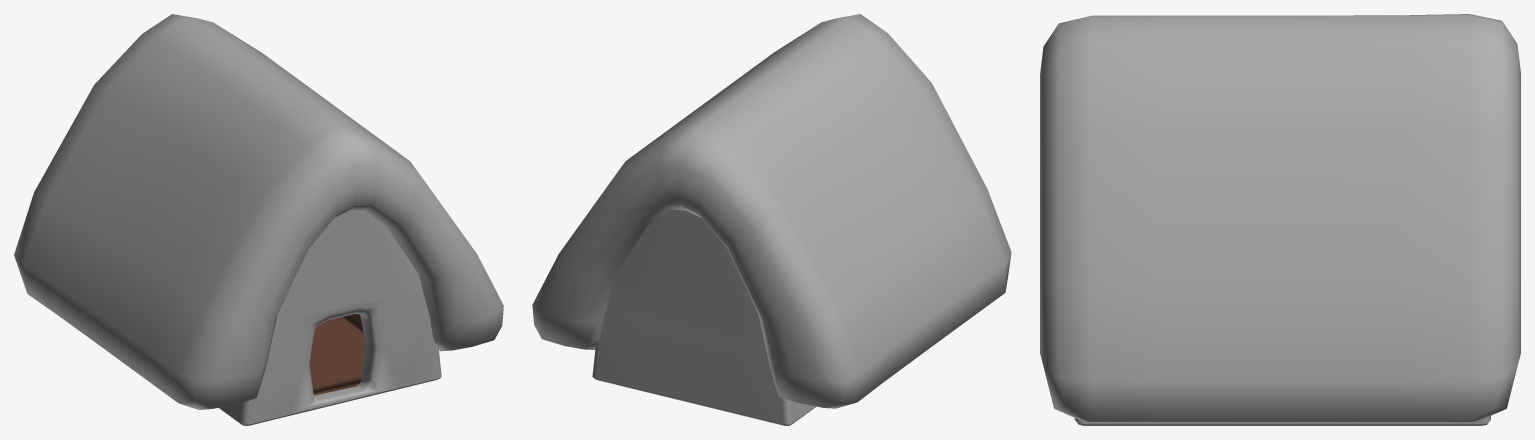
File: HouseFarm.fbx
The picture shows the model from 3 angles, left to right: view 1: azimuth 30°, elevation 25°; view 2: azimuth 150°, elevation 25°; view 3: azimuth 270°, elevation 25°; orthographic projection. The views are drawn at different scales.
Visible parts, largest first — view 1: pCube2, pCube1; view 2: pCube2, pCube1; view 3: pCube2, pCube1.
Part boxes in pixels (box(x1,y1,x2,y2)): pCube2: box(14, 14, 503, 409); pCube1: box(218, 210, 441, 425); pCube2: box(532, 14, 1011, 408); pCube1: box(592, 209, 816, 425); pCube2: box(1040, 14, 1520, 422); pCube1: box(1074, 416, 1490, 425).
Size of the model in its own units: 4.06 by 3.26 by 4.08.
